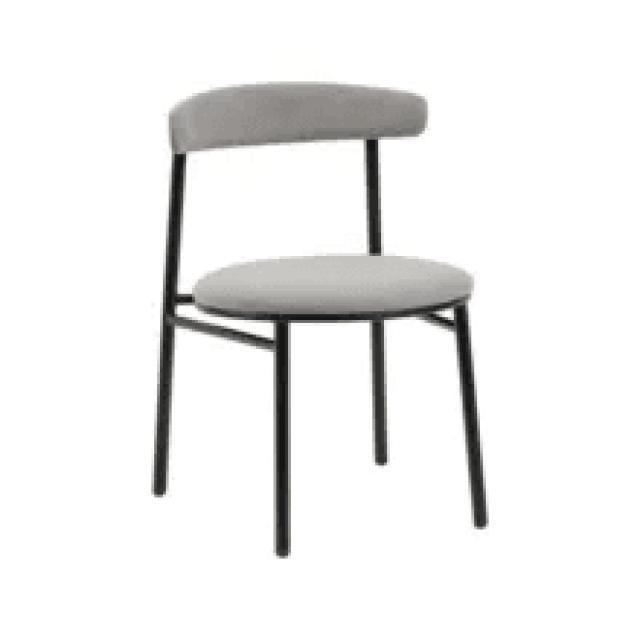chair: (143, 76, 494, 556), (165, 82, 488, 324)
